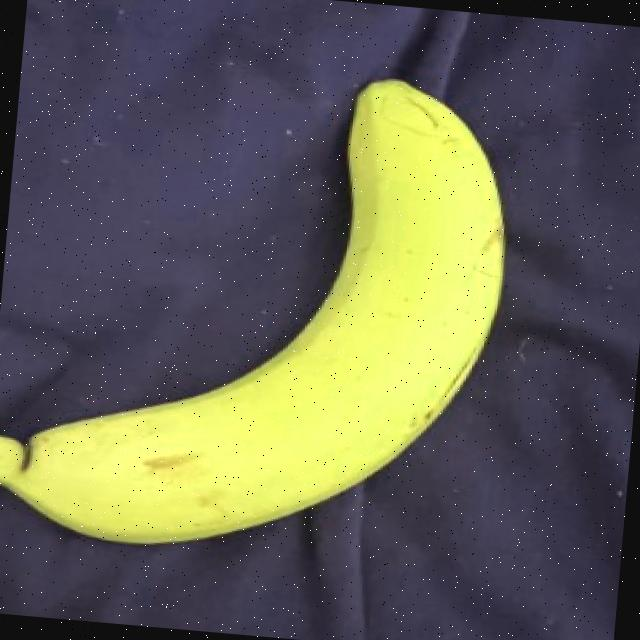Ripe: (0, 18, 548, 595)
